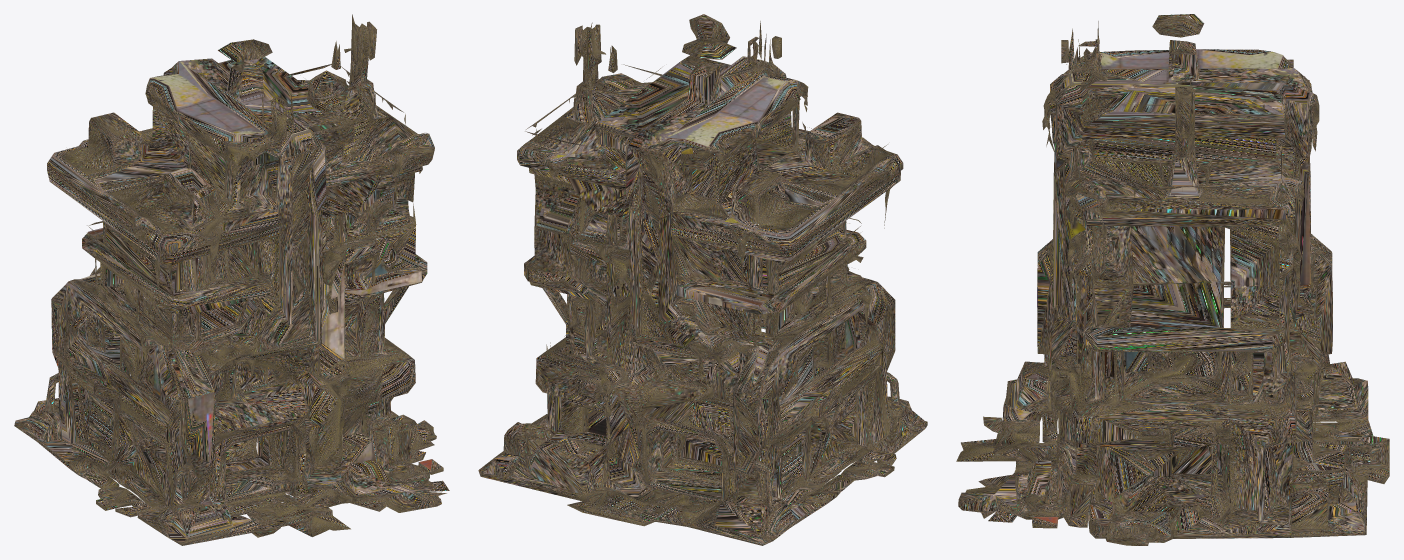
File: cyberpunk_building.glb
3 views of the same model, side by side, from view 1: azimuth 30°, elevation 25°; view 2: azimuth 150°, elevation 25°; view 3: azimuth 270°, elevation 25° (orthographic). The views are drawn at different scales.
Parts seen in each view (by area): view 1: world; view 2: world; view 3: world.
Part boxes in pixels (x1,y1,x2,y2): world: [14, 14, 449, 545]; world: [478, 14, 927, 545]; world: [956, 14, 1389, 545].
Bounding box in the file's own units: 1.64 × 1.97 × 1.74.
1 material, 1 textured.
